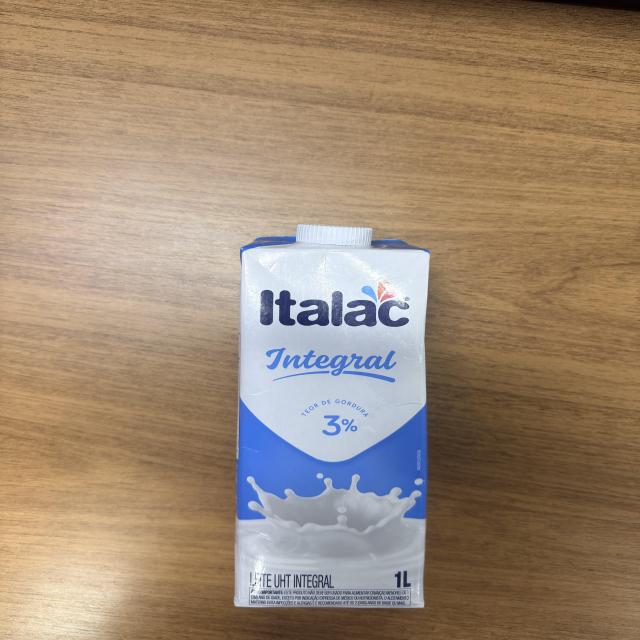Caixa de Leite: (235, 225, 438, 607)
